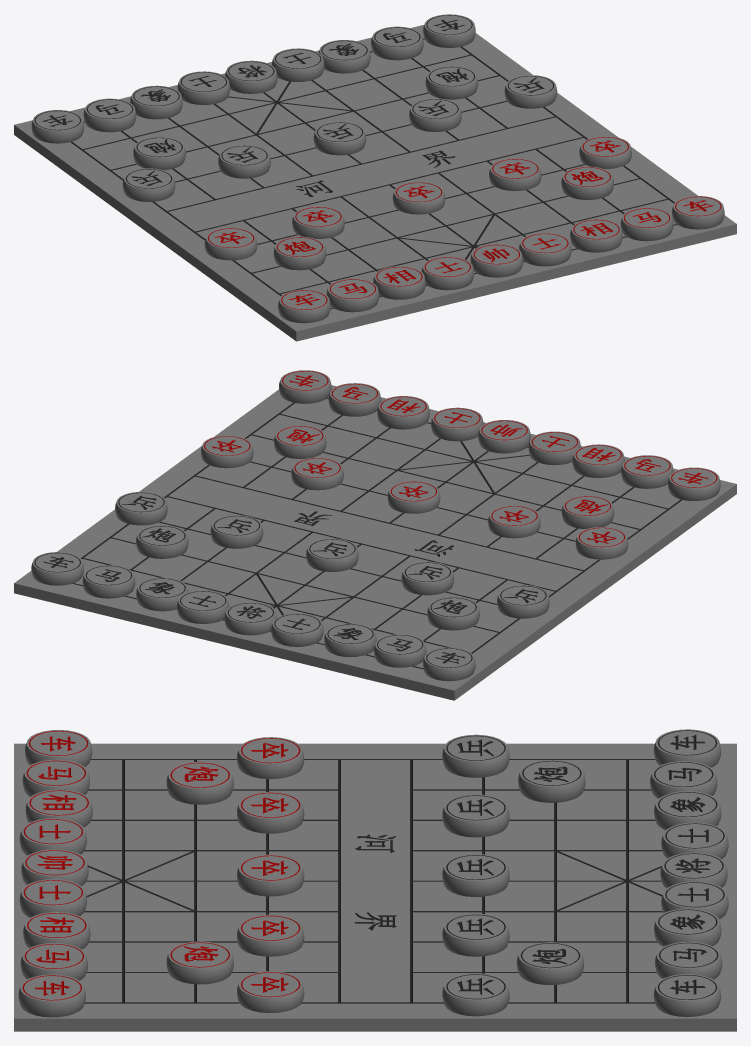
3 renders of one model, top to bottom at view 1: azimuth 30°, elevation 25°; view 2: azimuth 150°, elevation 25°; view 3: azimuth 270°, elevation 25°, orthographic. The views are drawn at different scales.
Parts seen in each view (by area): view 1: chinese chess_001, 群组#14_003, 群组#2_001, 群组#1_001, 群组#1_003, 群组#11_001, 群组#1_005, 群组#1_004, 群组#8_002, 群组#1_002, 群组#13_001, 群组#6_001 (+21 smaller); view 2: chinese chess_001, 群组#1_004, 群组#1_002, 群组#13_003, 群组#11_002, Group_001, 群组#8_002, 群组#9_001, 群组#7_002, 群组#1_003, 群组#1_005, 群组#6_001 (+21 smaller); view 3: chinese chess_001, 群组#14_001, 群组#8_001, 群组#1_002, 群组#1_001, 群组#14_003, 群组#1_005, 群组#1_004, 群组#13_003, 群组#1_003, 群组#7_002, 群组#13_001 (+21 smaller).
Boxes of the visible parts, bbox=[...] form: chinese chess_001: bbox=[14, 25, 736, 341]; 群组#14_003: bbox=[273, 236, 326, 270]; 群组#2_001: bbox=[620, 207, 673, 241]; 群组#1_001: bbox=[504, 75, 557, 108]; 群组#1_003: bbox=[313, 121, 366, 155]; 群组#11_001: bbox=[83, 98, 136, 132]; 群组#1_005: bbox=[122, 168, 175, 201]; 群组#1_004: bbox=[218, 145, 270, 178]; 群组#8_002: bbox=[278, 289, 330, 323]; 群组#1_002: bbox=[409, 98, 461, 131]; 群组#13_001: bbox=[425, 66, 478, 99]; 群组#6_001: bbox=[570, 219, 622, 252]; chinese chess_001: bbox=[14, 385, 736, 700]; 群组#1_004: bbox=[401, 561, 454, 595]; 群组#1_002: bbox=[210, 515, 263, 548]; 群组#13_003: bbox=[427, 597, 479, 630]; 群组#11_002: bbox=[82, 565, 135, 598]; Group_001: bbox=[478, 420, 530, 453]; 群组#8_002: bbox=[668, 467, 720, 501]; 群组#9_001: bbox=[271, 613, 323, 646]; 群组#7_002: bbox=[31, 552, 83, 585]; 群组#1_003: bbox=[306, 538, 358, 571]; 群组#1_005: bbox=[497, 585, 549, 618]; 群组#6_001: bbox=[377, 396, 429, 429]; chinese chess_001: bbox=[14, 743, 736, 1031]; 群组#14_001: bbox=[166, 941, 233, 984]; 群组#8_001: bbox=[18, 974, 85, 1017]; 群组#1_002: bbox=[442, 913, 509, 956]; 群组#1_001: bbox=[442, 973, 509, 1016]; 群组#14_003: bbox=[166, 761, 233, 804]; 群组#1_005: bbox=[442, 734, 509, 777]; 群组#1_004: bbox=[442, 794, 509, 837]; 群组#13_003: bbox=[518, 760, 585, 802]; 群组#1_003: bbox=[442, 854, 509, 896]; 群组#7_002: bbox=[653, 974, 721, 1016]; 群组#13_001: bbox=[516, 942, 584, 984].
Size of the model in its own units: 18082 by 884 by 20081.
